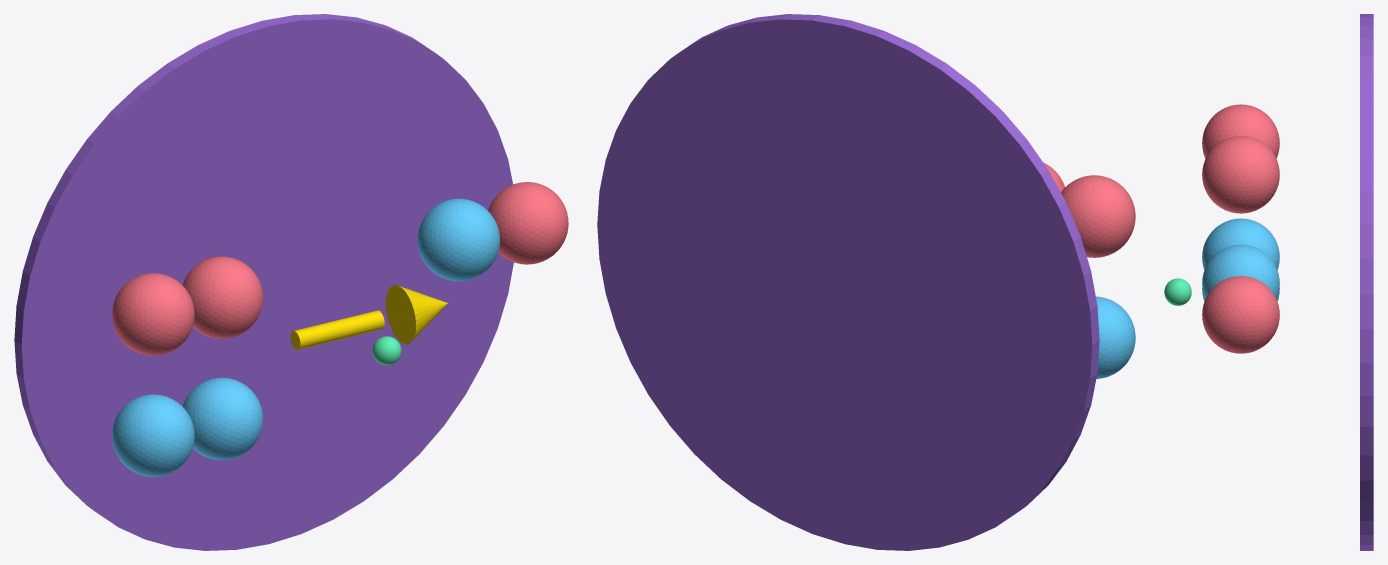
The model's file is modelo.glb.
3 renders of one model, left to right at view 1: azimuth 30°, elevation 25°; view 2: azimuth 150°, elevation 25°; view 3: azimuth 270°, elevation 25°, orthographic. The views are drawn at different scales.
Visible parts, largest first — view 1: base, A1, B1, produto_A, produto_B, A2, B2, seta_ponta, seta_corpo, transformacao; view 2: base, B1, A1; view 3: base, B2, produto_B, B1, produto_A, A1, transformacao.
Part boxes in pixels (x1,y1,x2,y2): base: (14, 14, 513, 550); A1: (112, 394, 194, 476); B1: (112, 273, 194, 355); produto_A: (417, 198, 499, 281); produto_B: (488, 182, 568, 264); A2: (182, 377, 262, 460); B2: (182, 256, 262, 338); seta_ponta: (385, 285, 447, 344); seta_corpo: (290, 310, 384, 349); transformacao: (372, 336, 401, 365); base: (597, 14, 1099, 550); B1: (1061, 175, 1135, 257); A1: (1096, 296, 1135, 378); base: (1360, 14, 1373, 550); B2: (1202, 136, 1279, 213); produto_B: (1202, 276, 1279, 353); B1: (1202, 104, 1279, 158); produto_A: (1202, 244, 1279, 298); A1: (1202, 218, 1279, 269); transformacao: (1164, 278, 1191, 305).
Size of the model in its own units: 0.47 by 0.47 by 0.183.
